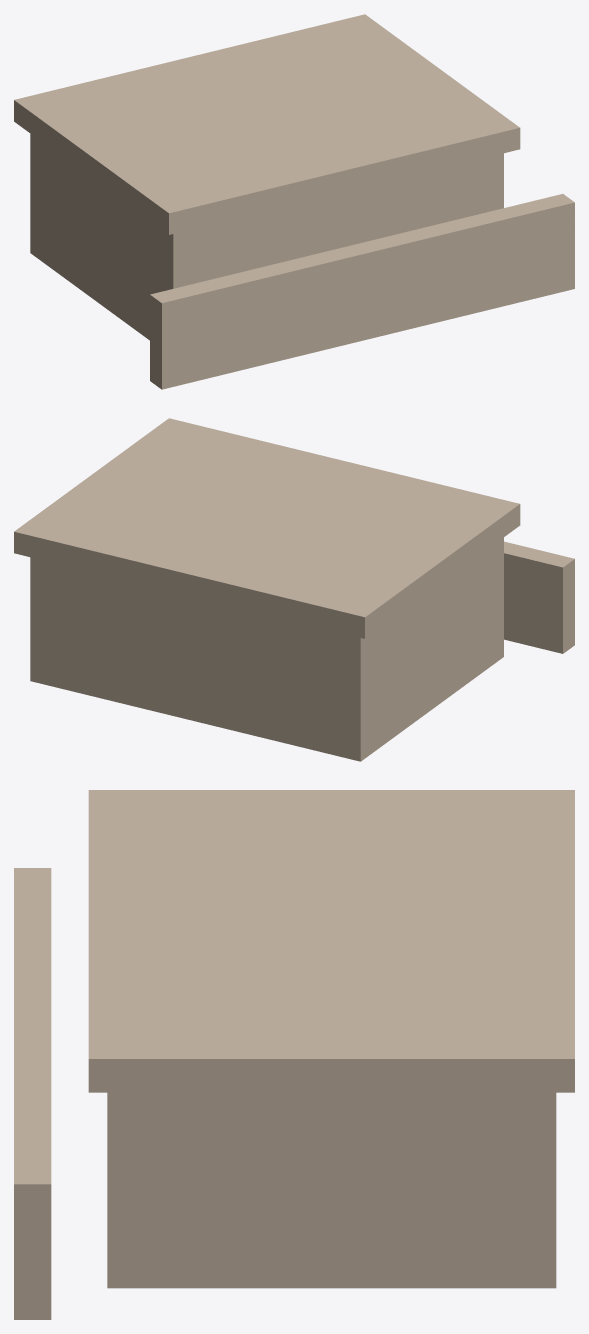
File: residential.glb
3 renders of one model, top to bottom at view 1: azimuth 30°, elevation 25°; view 2: azimuth 150°, elevation 25°; view 3: azimuth 270°, elevation 25°, orthographic. The views are drawn at different scales.
Visible parts, largest first — view 1: Residential_House_Wall; view 2: Residential_House_Wall; view 3: Residential_House_Wall.
Boxes of the visible parts, <box> form: Residential_House_Wall: <box>14,14,574,389</box>; Residential_House_Wall: <box>14,418,574,761</box>; Residential_House_Wall: <box>14,790,574,1319</box>.
Bounding box in the file's own units: 10 × 3.5 × 7.5.
